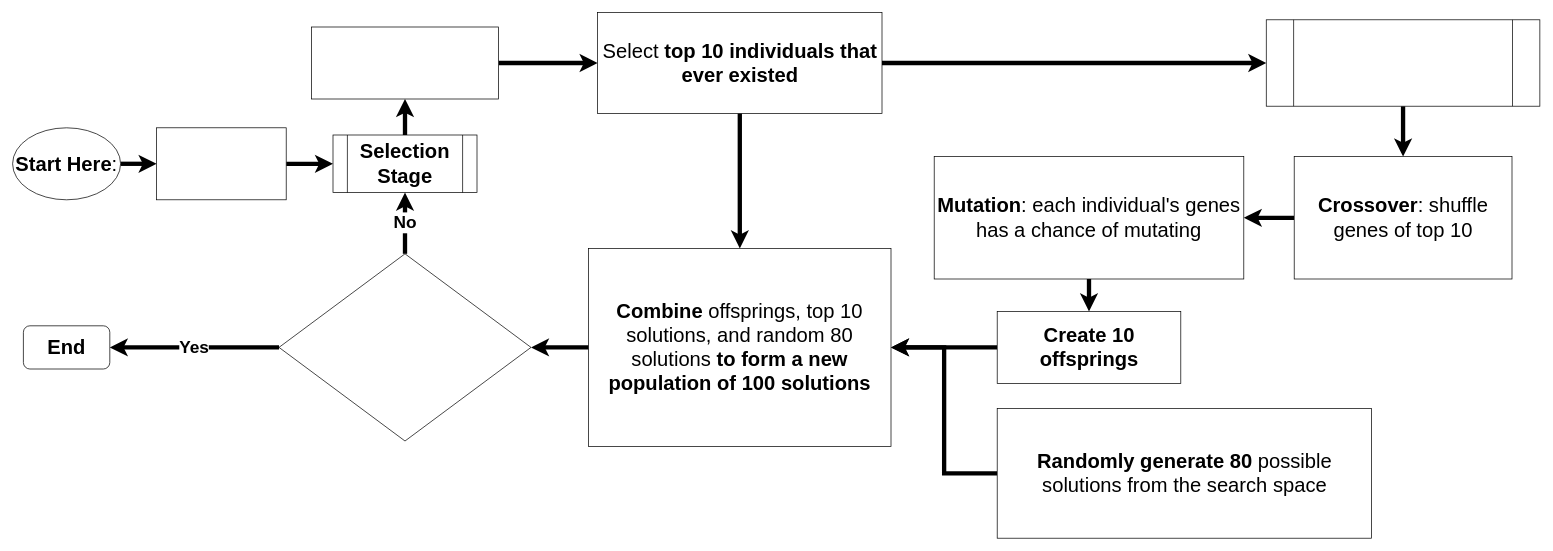
Some shapes in this 1553 by 551 pixel diagram are drawn without their labels. The centre of each missing label's shape, as x and y in pixels:
"Calculate fitness values of individuals" belongs at (405,62).
"Genetic Operators Stage: Create Offspring" belongs at (1403,62).
"Randomly generate population" belongs at (221,163).
"Termination Criteria Reached number of iterations?" belongs at (404,347).
